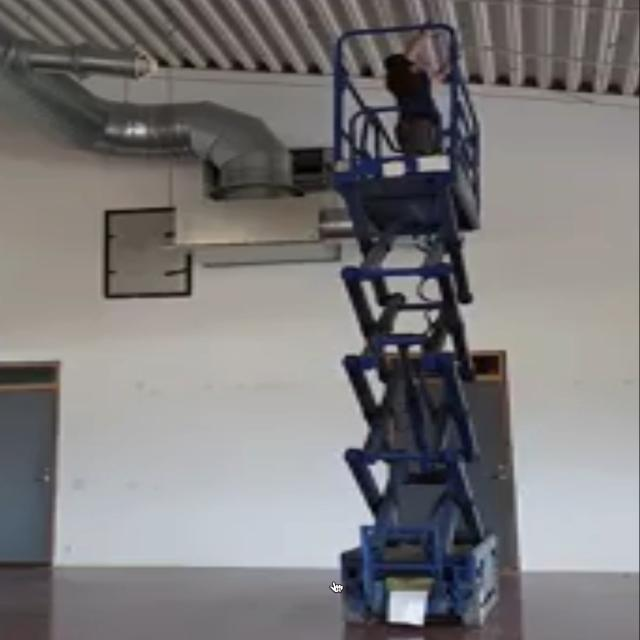2m above platform: (329, 20, 498, 630)
worker: (383, 40, 441, 154)
